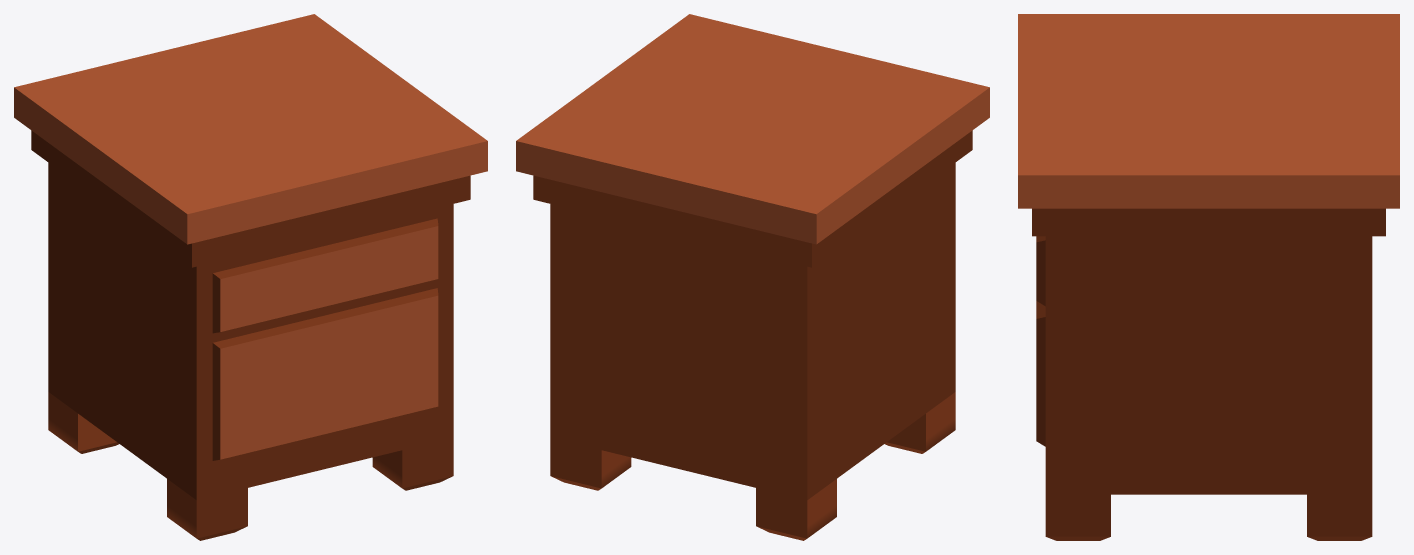
File: TPBedsidetable.fbx
The picture shows the model from 3 angles, left to right: view 1: azimuth 30°, elevation 25°; view 2: azimuth 150°, elevation 25°; view 3: azimuth 270°, elevation 25°; orthographic projection. The views are drawn at different scales.
Visible parts, largest first — view 1: TPBedsidetable; view 2: TPBedsidetable; view 3: TPBedsidetable.
Boxes of the visible parts, x1,y1,x2,y2 form: TPBedsidetable: (14, 14, 487, 540); TPBedsidetable: (516, 14, 989, 540); TPBedsidetable: (1018, 14, 1399, 540).
Size of the model in its own units: 46.78 by 46.78 by 51.61.
Materials: 1 (1 with a texture image).
